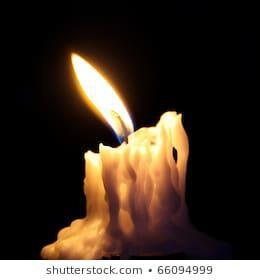fire: (68, 51, 136, 135)
